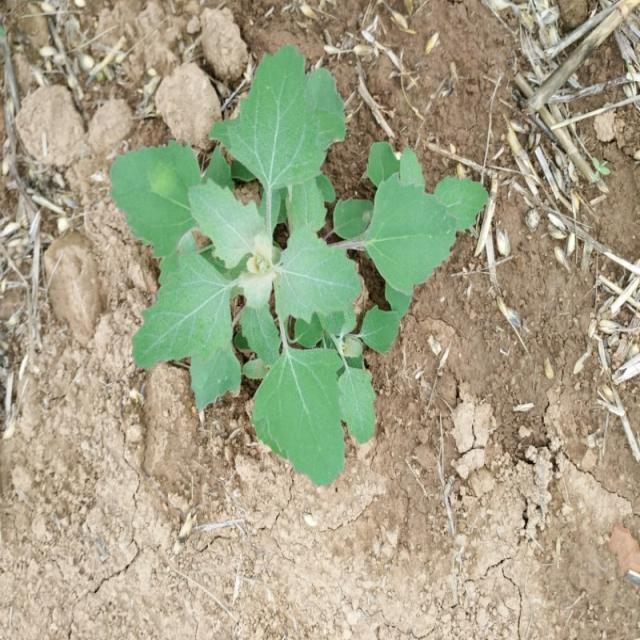goosefoots: (104, 44, 487, 484)
